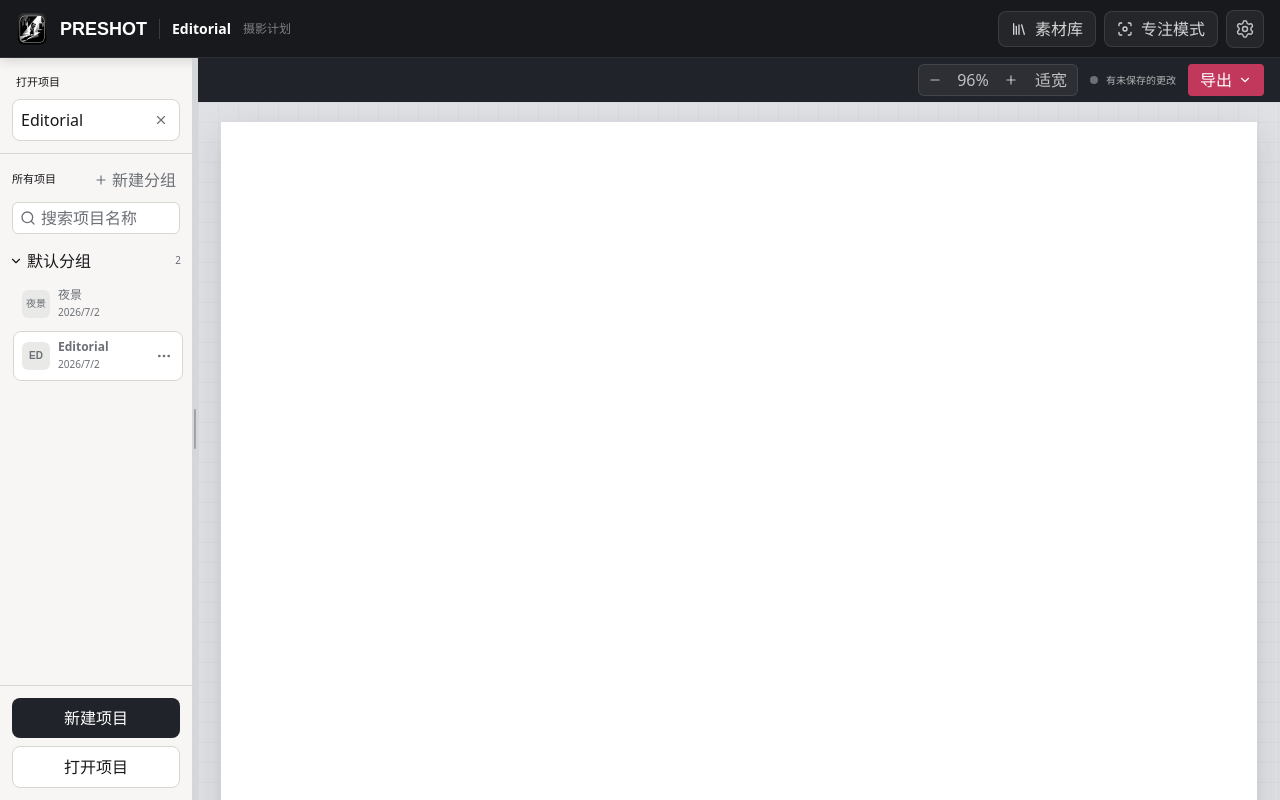
Test: App › stops progress when the destination plan is failed
The width and height of the screenshot is (1280, 800).
Click the button with aria-label "打开项目 夜景": x=98, y=304 [14,280,182,328]
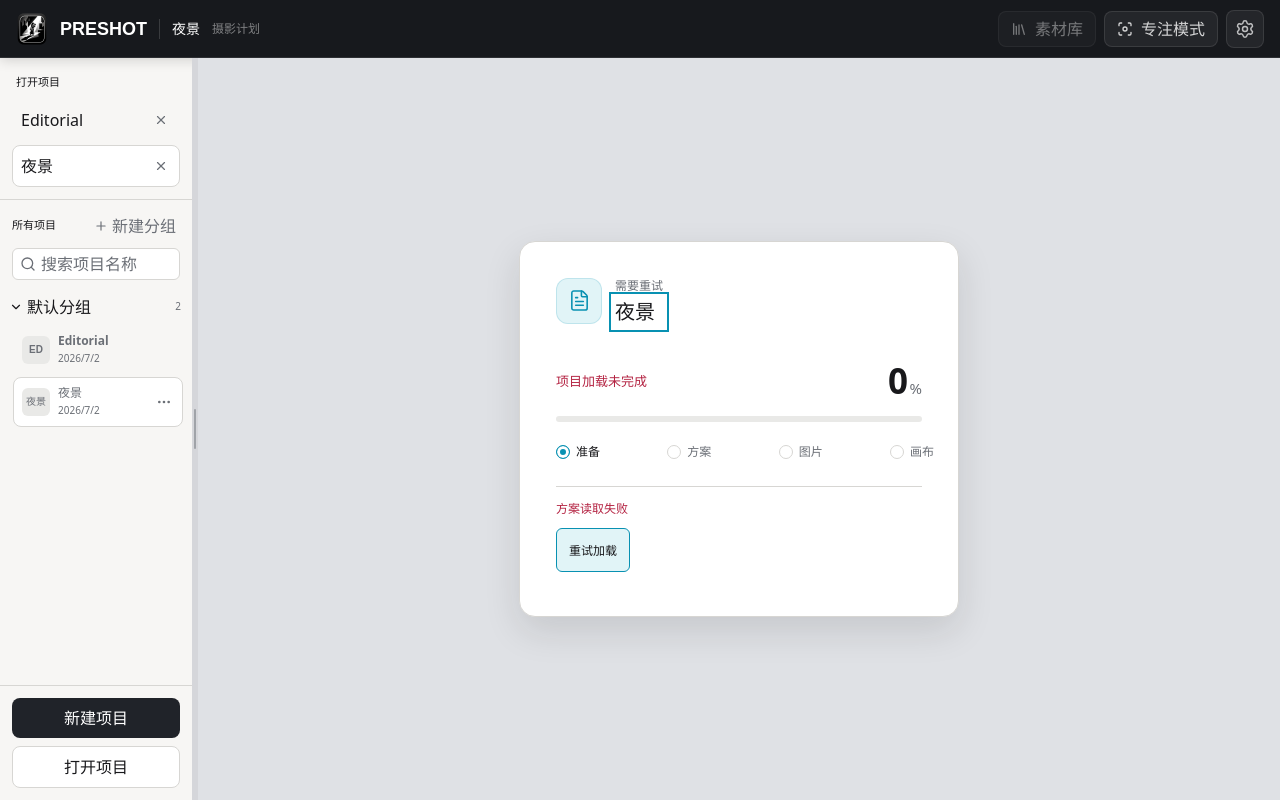
Expected: the message reads "方案读取失败", [556,500,628,517]
Expected: the button "重试加载" is shown, [556,528,630,572]
